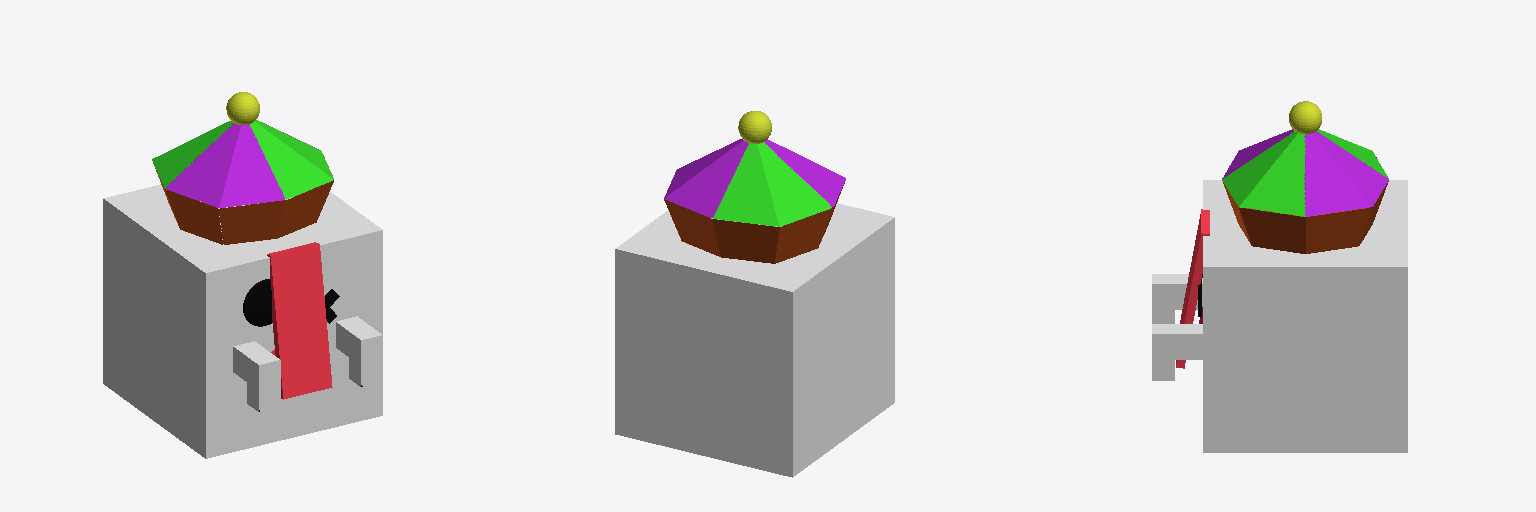
3 renders of one model, left to right at view 1: azimuth 30°, elevation 25°; view 2: azimuth 150°, elevation 25°; view 3: azimuth 270°, elevation 25°, orthographic.
Visible parts, largest first — view 1: 立方体.007; view 2: 立方体.007; view 3: 立方体.007.
Boxes of the visible parts, <box> form: 立方体.007: <box>103,92,382,458</box>; 立方体.007: <box>615,111,894,477</box>; 立方体.007: <box>1152,101,1407,452</box>.
Size of the model in its own units: 2 by 3.3 by 2.5.
1 materials, 1 textured.